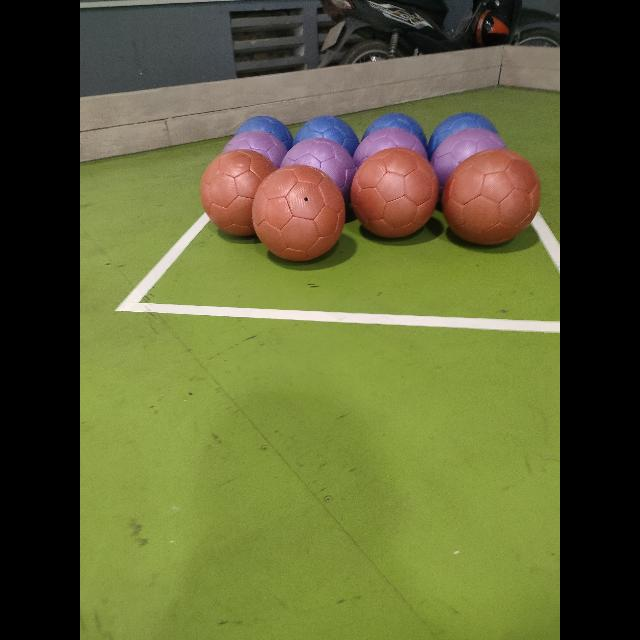B: (428, 114, 500, 158), (294, 116, 358, 156), (362, 114, 428, 144), (236, 116, 294, 150)
P: (280, 137, 356, 207), (430, 128, 508, 190), (353, 128, 427, 170), (221, 130, 287, 170)
R: (442, 149, 540, 245), (253, 165, 345, 261), (351, 148, 439, 238), (201, 154, 275, 233)
